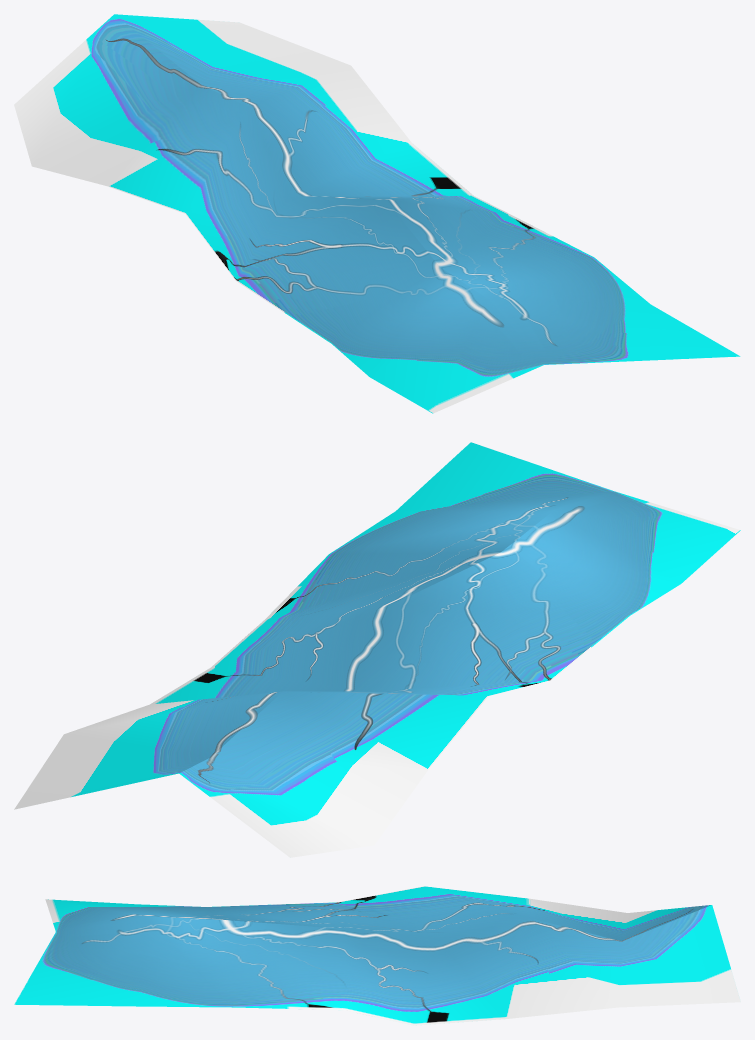
File: m_flash.fbx
3 views of the same model, one above another, from view 1: azimuth 30°, elevation 25°; view 2: azimuth 150°, elevation 25°; view 3: azimuth 270°, elevation 25° (orthographic). The views are drawn at different scales.
Parts seen in each view (by area): view 1: m_flash; view 2: m_flash; view 3: m_flash.
Part boxes in pixels (<box>): m_flash: <box>14,14,740,413</box>; m_flash: <box>14,442,740,857</box>; m_flash: <box>14,886,740,1025</box>.
Size of the model in its own units: 35.9 by 8.59 by 94.62.
